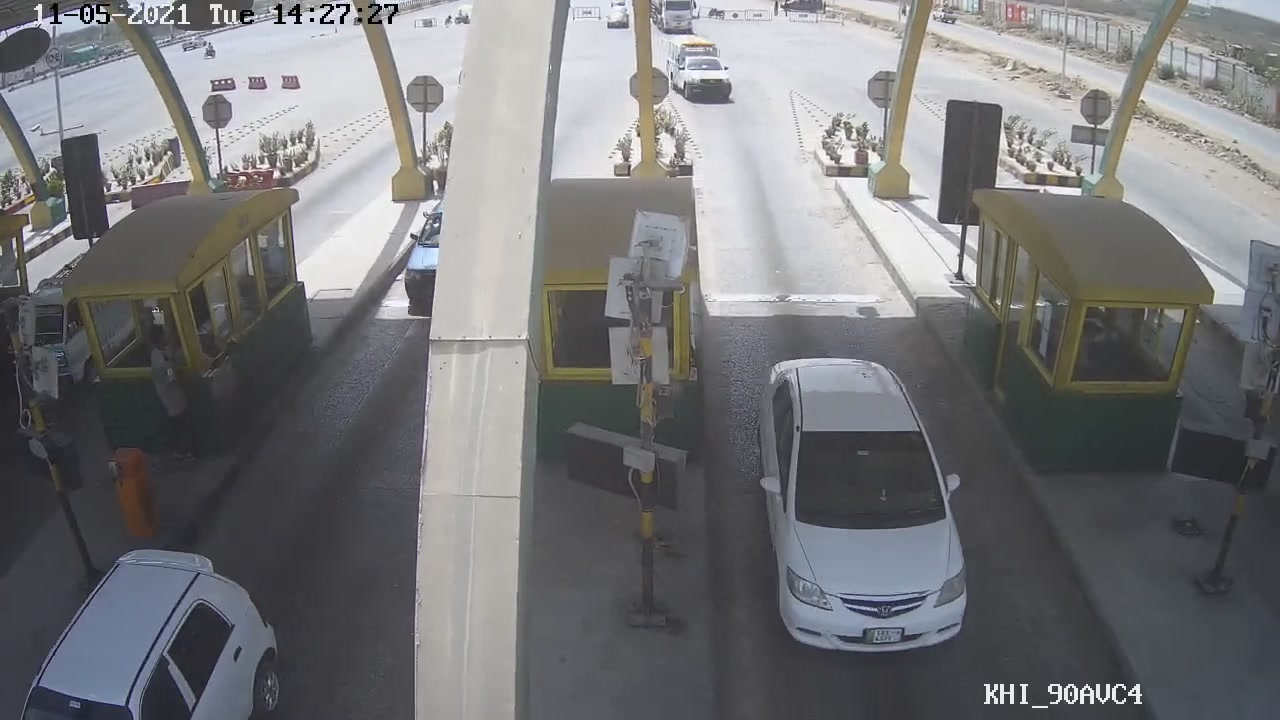F1: (757, 354, 970, 656)
